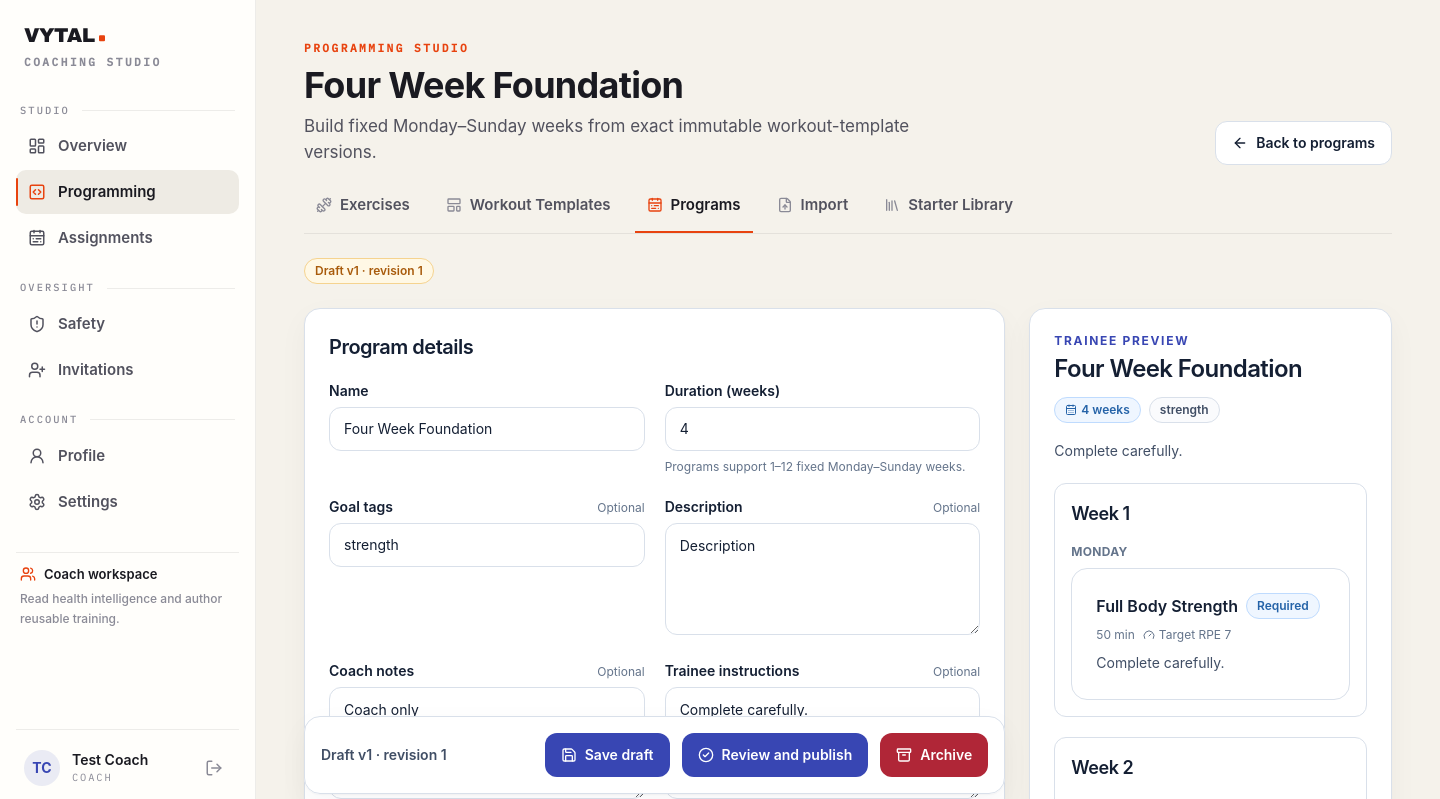
Test: Program builder › reviews publication and renders a published program as immutable
Click the button "Review and publish".
click(775, 755)  # box [682,733,868,777]
(page scrolled)
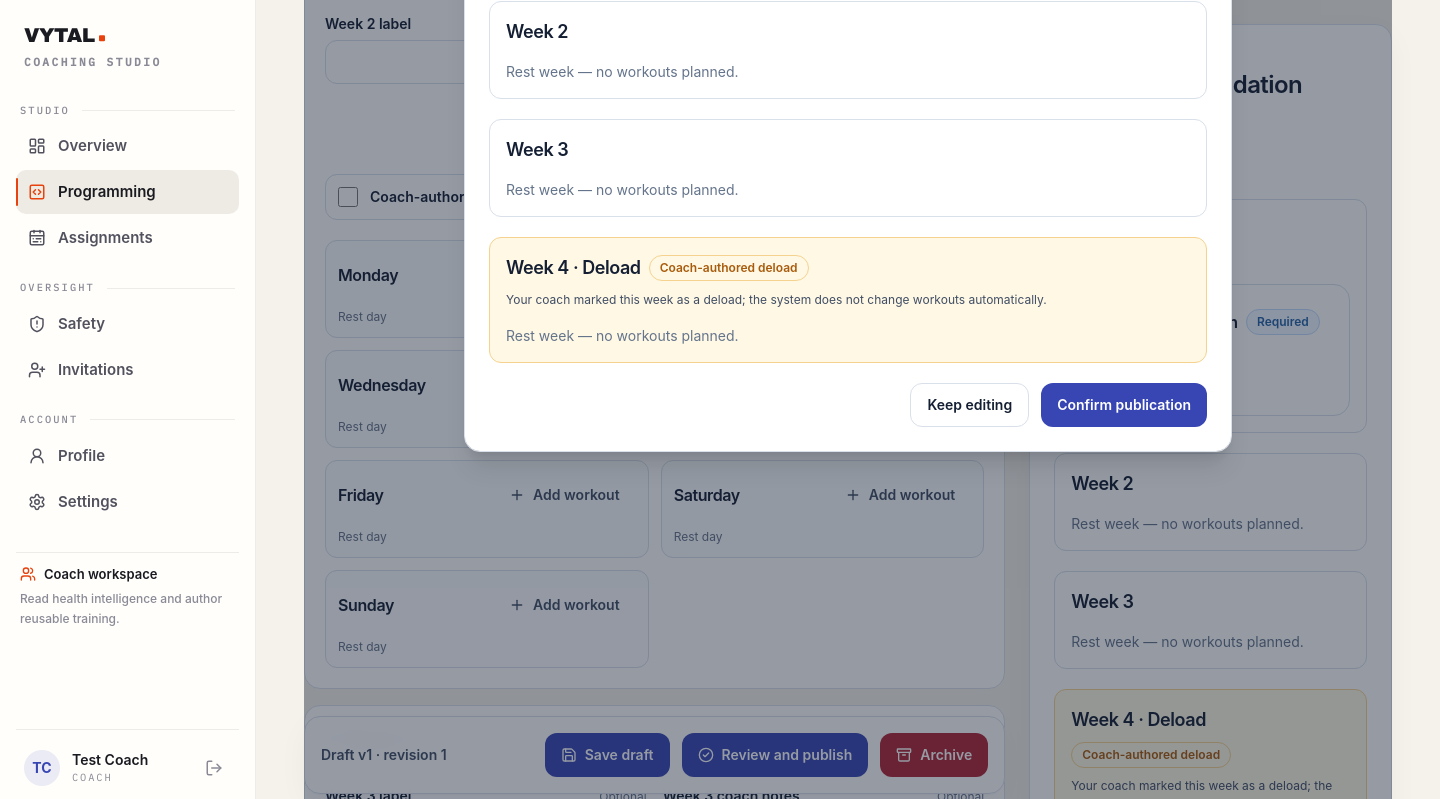
Click the button "Confirm publication".
click(1124, 405)  # box [1041,383,1207,427]
(page scrolled)
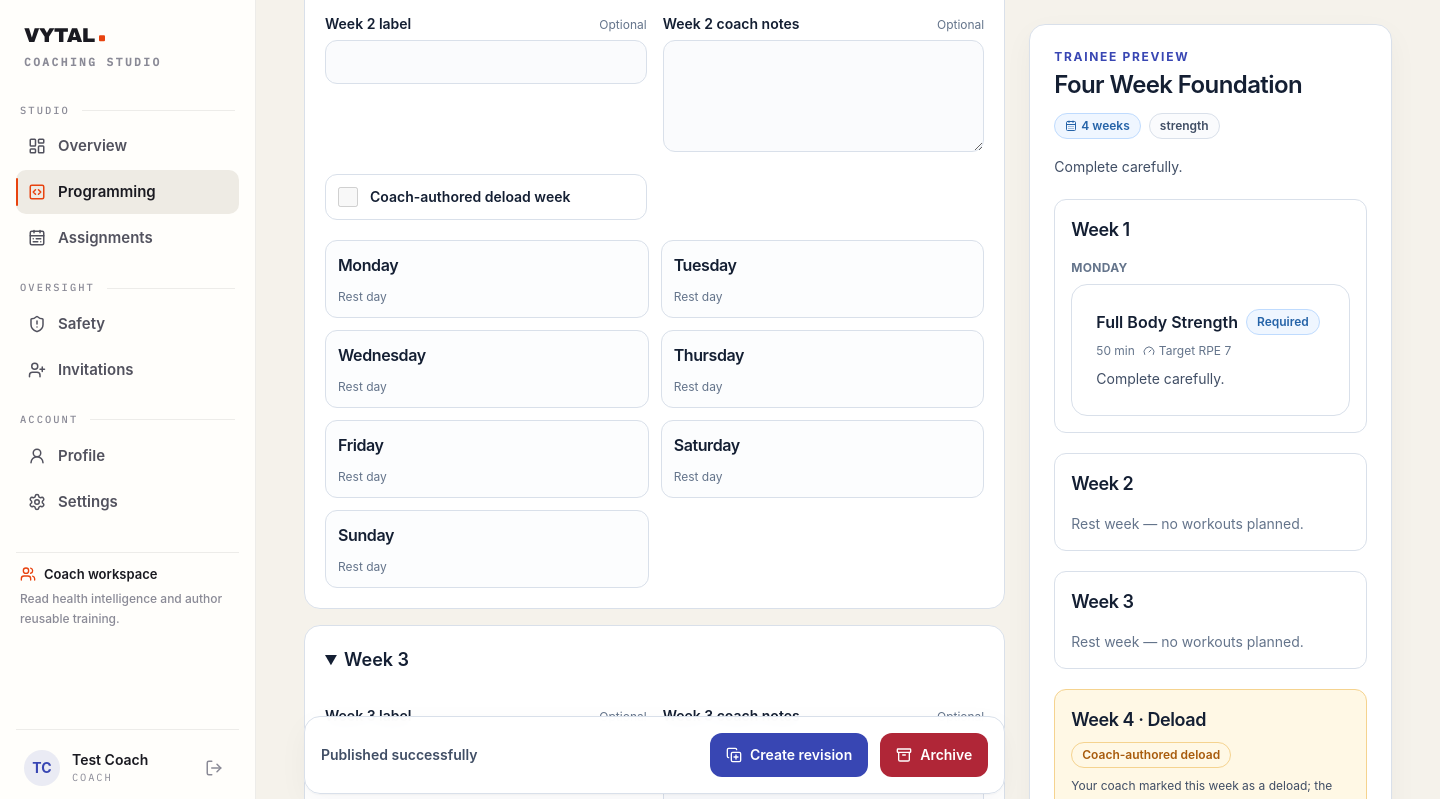
Result: the button "Create revision" is shown at [710,733,868,777]
